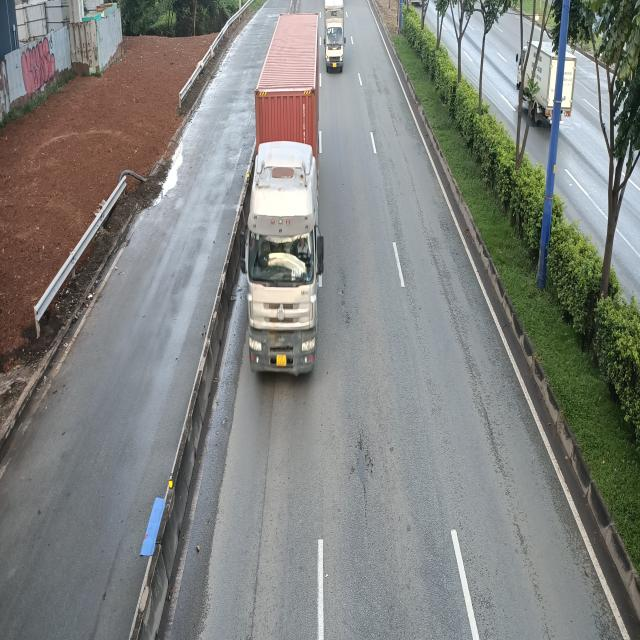container: (239, 13, 324, 373)
truck: (326, 2, 348, 75)
